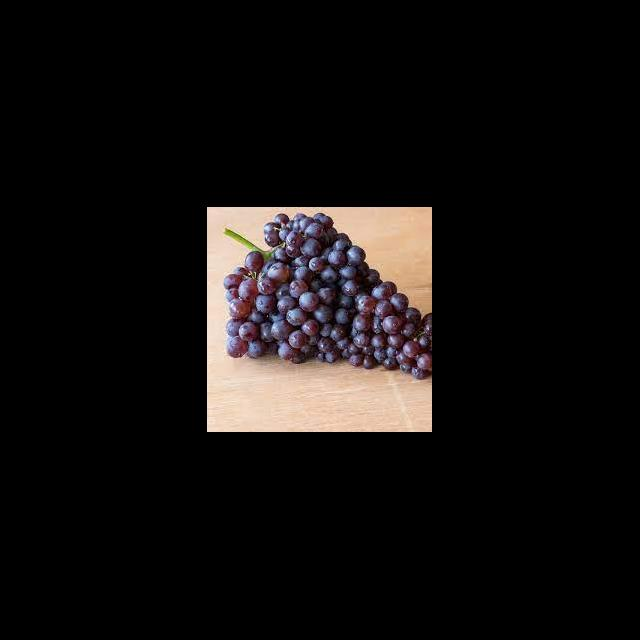grape: (223, 212, 432, 380)
